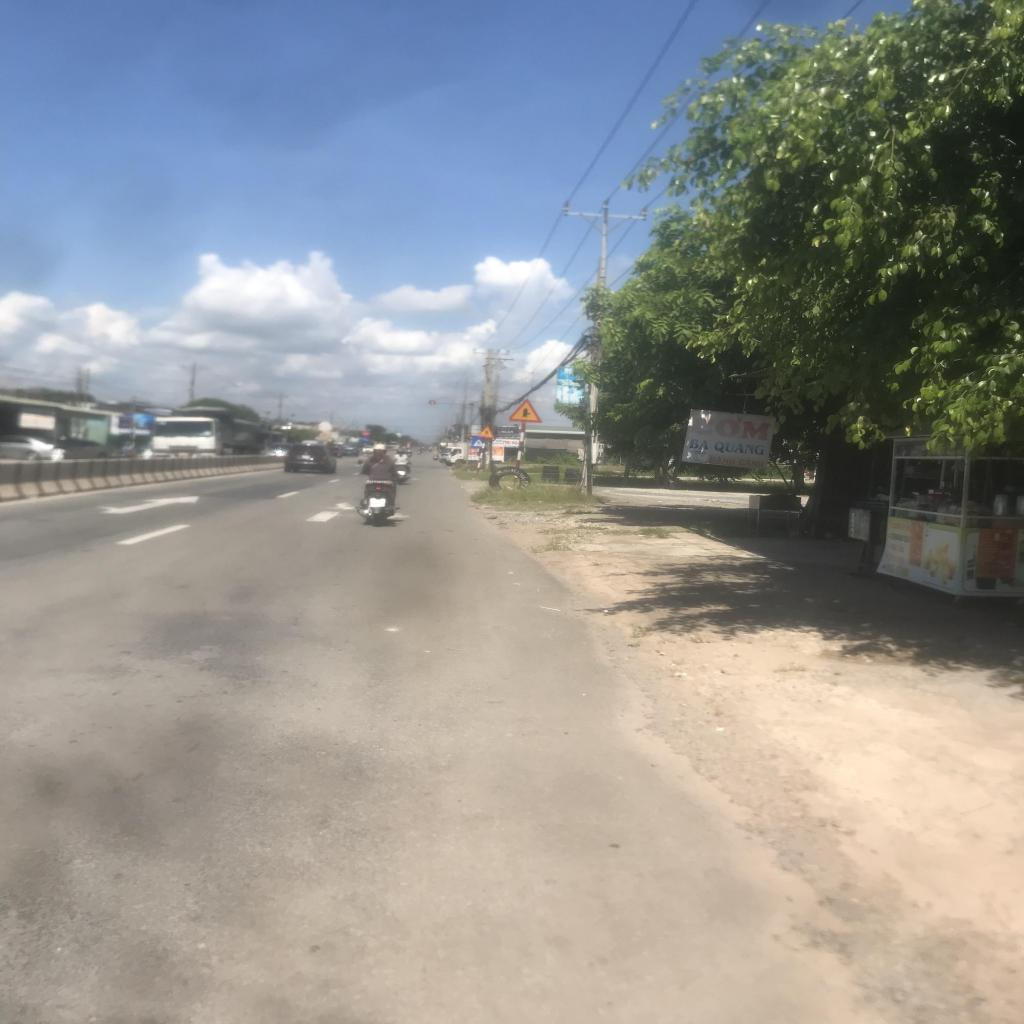cam_xe_di_nguoc_chieu: (362, 430, 370, 437)
chu_y_nguoi_di_bo_cat_ngang: (476, 426, 494, 439)
duong_nguoi_di_bo_sang_ngang: (470, 437, 483, 448)
giao_nhau_voi_duong_khong_uu_tien: (508, 398, 540, 423)
huong_phai_di_vuot_chuong_ngai_vat_phai: (361, 436, 369, 442)
